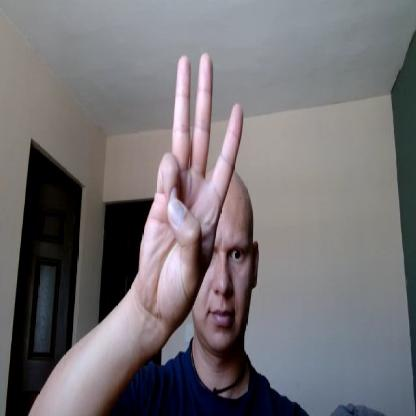W: (138, 48, 246, 313)
